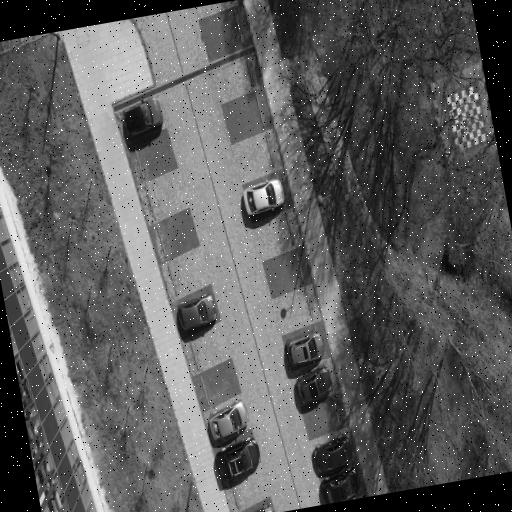person: (215, 437, 259, 484), (207, 401, 247, 440), (122, 96, 161, 136), (242, 178, 283, 214), (313, 437, 352, 473), (320, 467, 359, 503), (286, 330, 323, 366), (178, 294, 216, 329), (295, 366, 331, 402), (255, 504, 273, 511)
